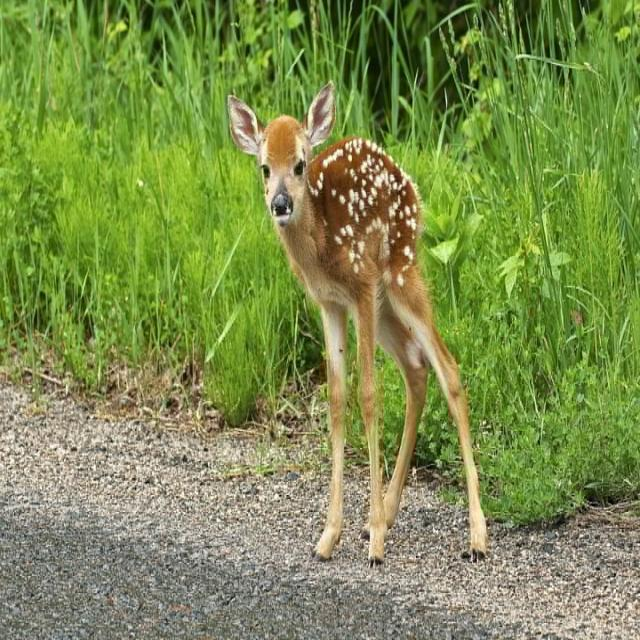not_pig: (226, 79, 488, 568)
